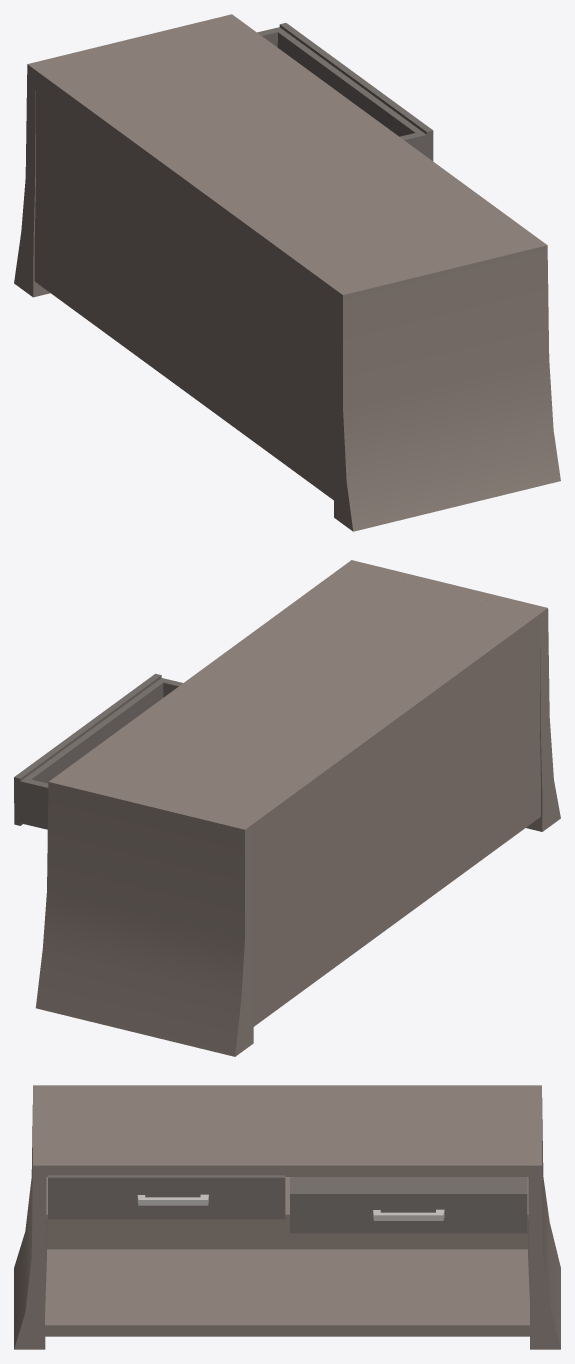
File: TVcabinetBasic2.glb
3 renders of one model, top to bottom at view 1: azimuth 30°, elevation 25°; view 2: azimuth 150°, elevation 25°; view 3: azimuth 270°, elevation 25°, orthographic. The views are drawn at different scales.
Visible parts, largest first — view 1: pCube8, pCube14, pCube10, pCube13, pCube11, pCube7; view 2: pCube8, pCube14, pCube11, pCube13, pCube10, pCube7; view 3: pCube8, pCube7, pCube13, pCube14, pCube12, pCube11, pCube10, pCube9, pCube16, pCube15.
Boxes of the visible parts, left/top/right/bottom form: pCube8: left=35, top=20, right=539, bottom=302; pCube14: left=34, top=84, right=334, bottom=487; pCube10: left=333, top=239, right=560, bottom=531; pCube13: left=257, top=23, right=433, bottom=160; pCube11: left=14, top=14, right=239, bottom=297; pCube7: left=34, top=269, right=333, bottom=500; pCube8: left=56, top=565, right=540, bottom=836; pCube14: left=252, top=627, right=540, bottom=1014; pCube11: left=35, top=776, right=253, bottom=1056; pCube13: left=14, top=673, right=182, bottom=829; pCube10: left=344, top=560, right=560, bottom=831; pCube7: left=253, top=804, right=540, bottom=1026; pCube8: left=45, top=1085, right=529, bottom=1176; pCube7: left=45, top=1249, right=529, bottom=1336; pCube13: left=290, top=1177, right=527, bottom=1233; pCube14: left=47, top=1220, right=527, bottom=1249; pCube12: left=48, top=1175, right=285, bottom=1219; pCube11: left=528, top=1085, right=560, bottom=1349; pCube10: left=14, top=1085, right=46, bottom=1349; pCube9: left=46, top=1177, right=528, bottom=1220; pCube16: left=137, top=1194, right=208, bottom=1205; pCube15: left=373, top=1209, right=444, bottom=1220.
Size of the model in its own units: 39.39 by 32.56 by 88.02.
